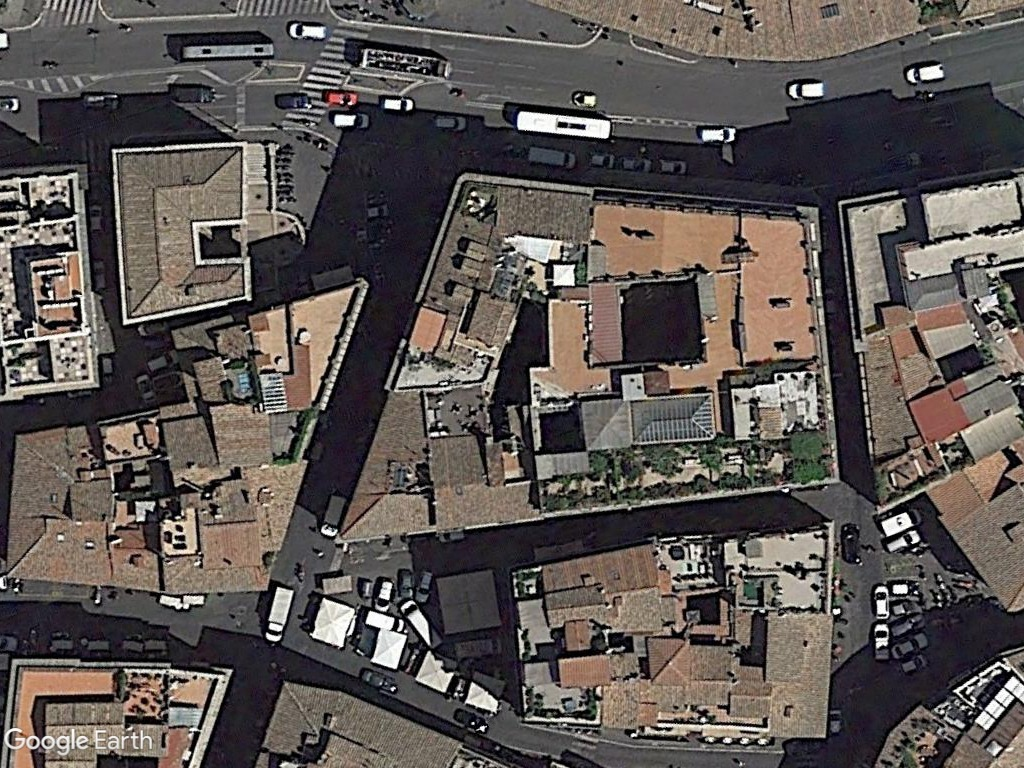bus: (512, 106, 616, 141), (177, 39, 281, 65)
car: (444, 703, 494, 738), (354, 662, 402, 693), (837, 518, 864, 567), (891, 629, 928, 663), (270, 87, 316, 113), (868, 579, 894, 623), (371, 574, 396, 617), (869, 619, 892, 663), (320, 87, 362, 111), (431, 110, 473, 134), (582, 146, 621, 171), (376, 94, 420, 115), (616, 155, 658, 176), (652, 156, 693, 176), (568, 88, 603, 108)
other: (161, 82, 222, 108)
truck: (263, 580, 298, 646), (315, 489, 350, 541), (875, 504, 925, 536)
van: (394, 596, 446, 650), (519, 142, 578, 171), (902, 59, 950, 87), (284, 16, 331, 44), (783, 78, 832, 104), (694, 123, 741, 146), (325, 108, 372, 131)
